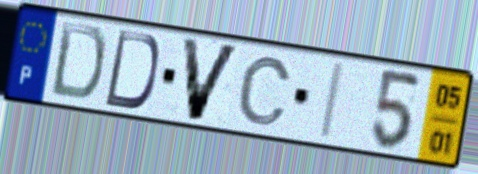5: (367, 65, 425, 154)
C: (235, 54, 295, 128)
D: (47, 19, 109, 104), (101, 27, 162, 113)
I: (317, 60, 349, 143)
V: (179, 34, 244, 125)
